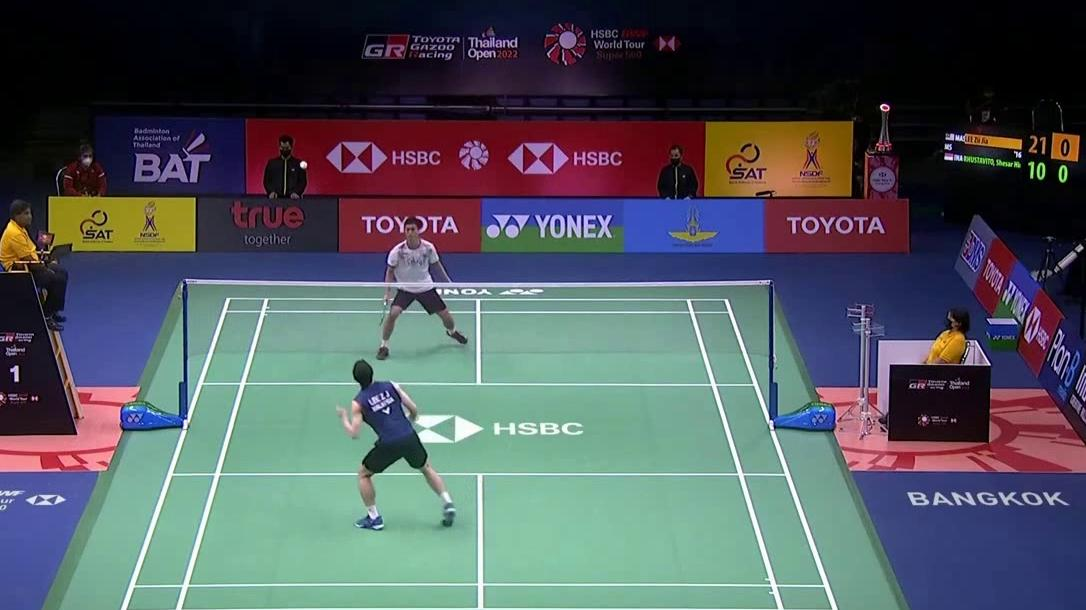racket: (377, 292, 389, 328)
shuttle: (300, 161, 307, 169)
